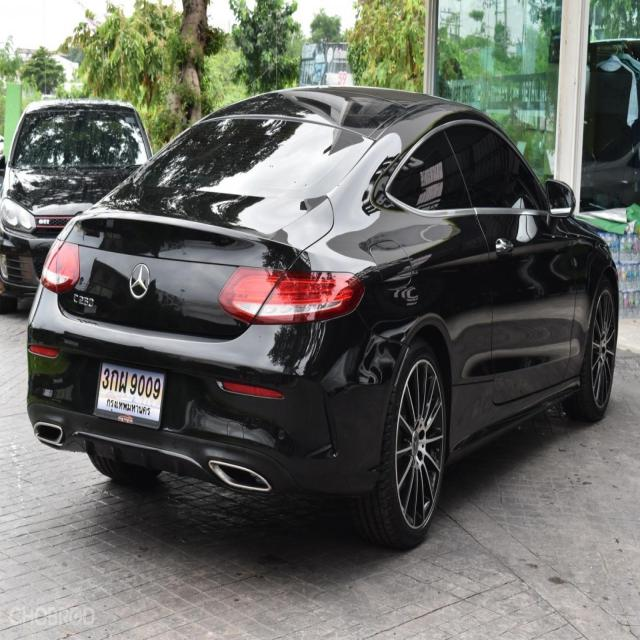license_plate: (92, 353, 164, 432)
